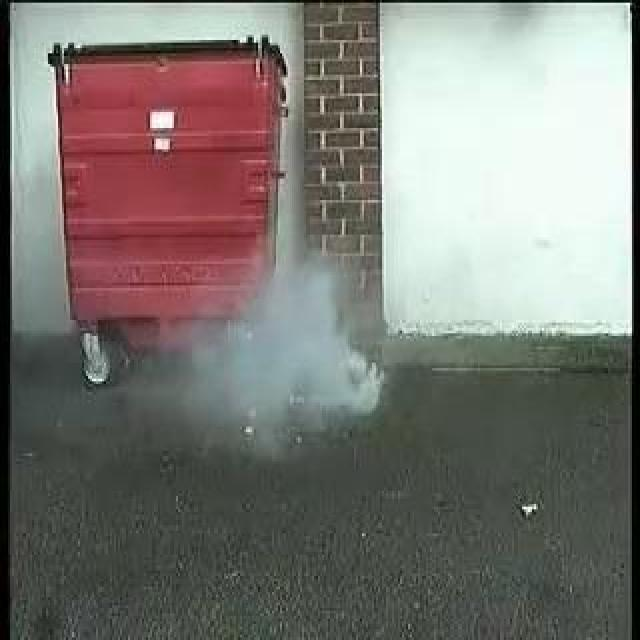Smoke: (194, 259, 386, 416)
